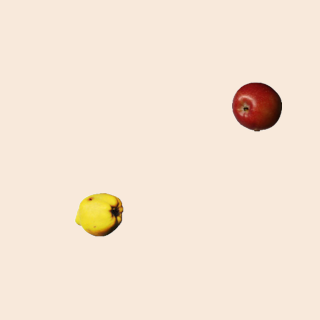Apple Braeburn: (231, 81, 281, 131)
Quince: (73, 189, 123, 239)
